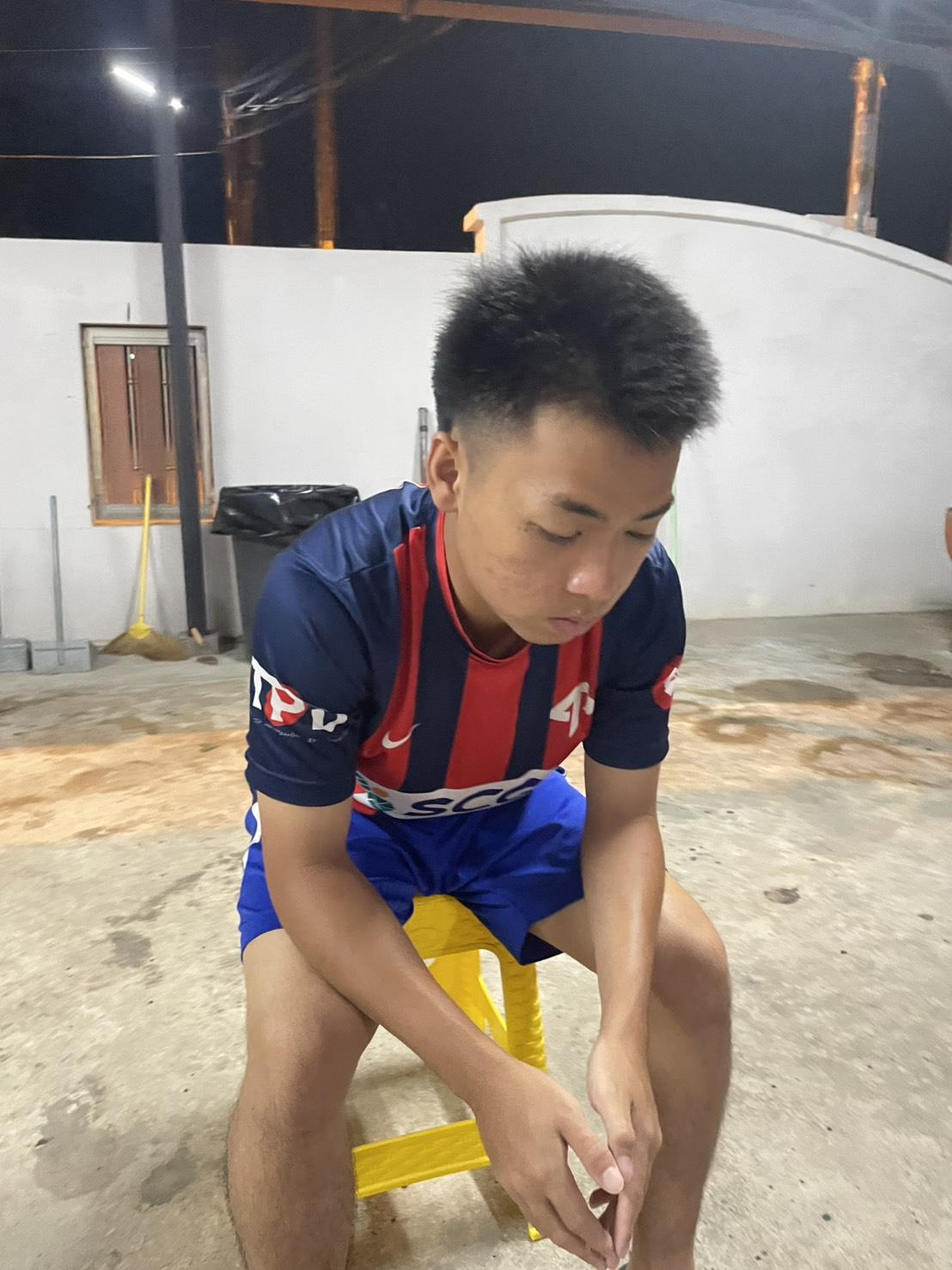BadPosture: (246, 250, 718, 842)
